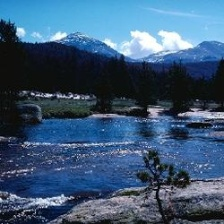neutral: (2, 2, 221, 219)
